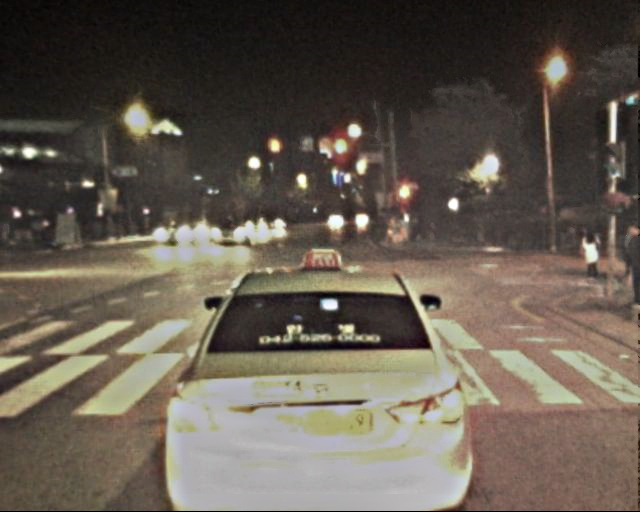person: (617, 223, 640, 310), (582, 227, 603, 279), (412, 217, 440, 242), (3, 216, 22, 242)
